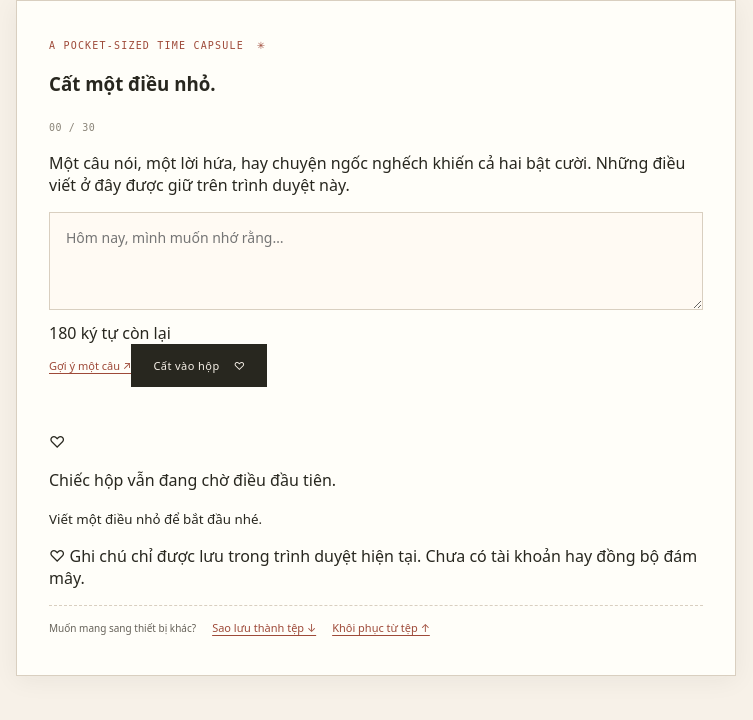
Test case: resilience (regressions: these used to crash the whole page) › keeps working, and says so, when the browser refuses to save
In the text box named "Điều muốn lưu giữ": [376, 261] box [49,212,703,310], type "vẫn thấy được"
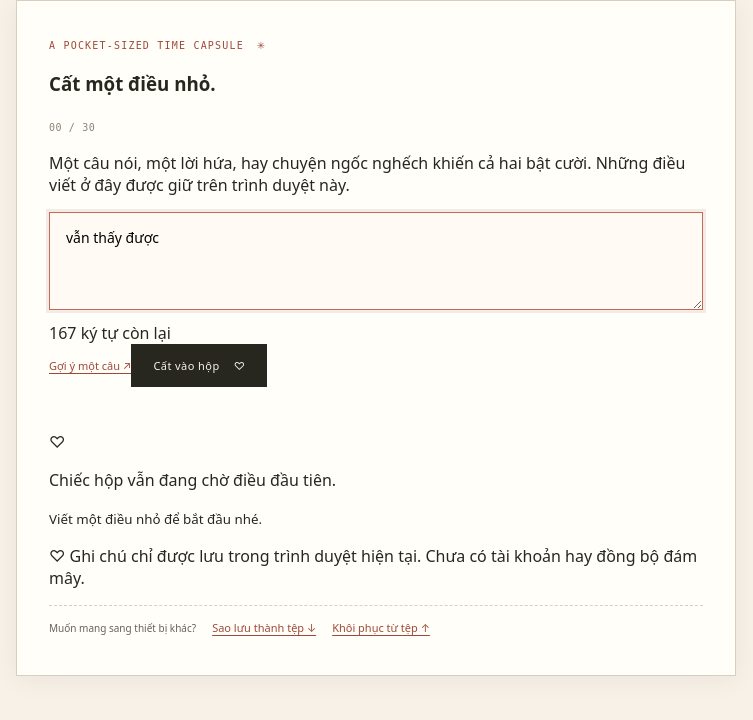
Click the button "Cất vào hộp ♡": [199, 365] box [131,344,267,387]
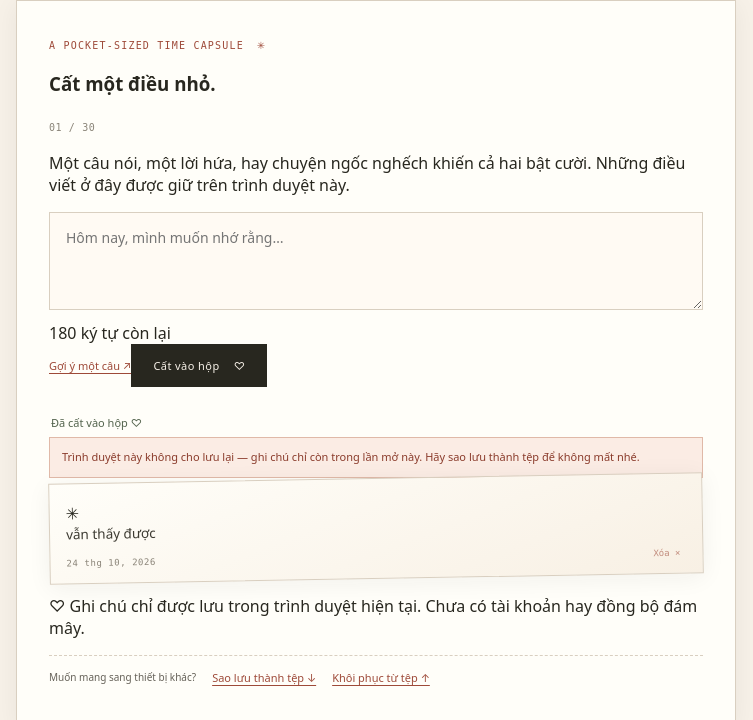
Result: the text "vẫn thấy được" is shown at [66,524,156,543]
Result: the 2nd message shows "không cho lưu" at [62,449,640,464]
